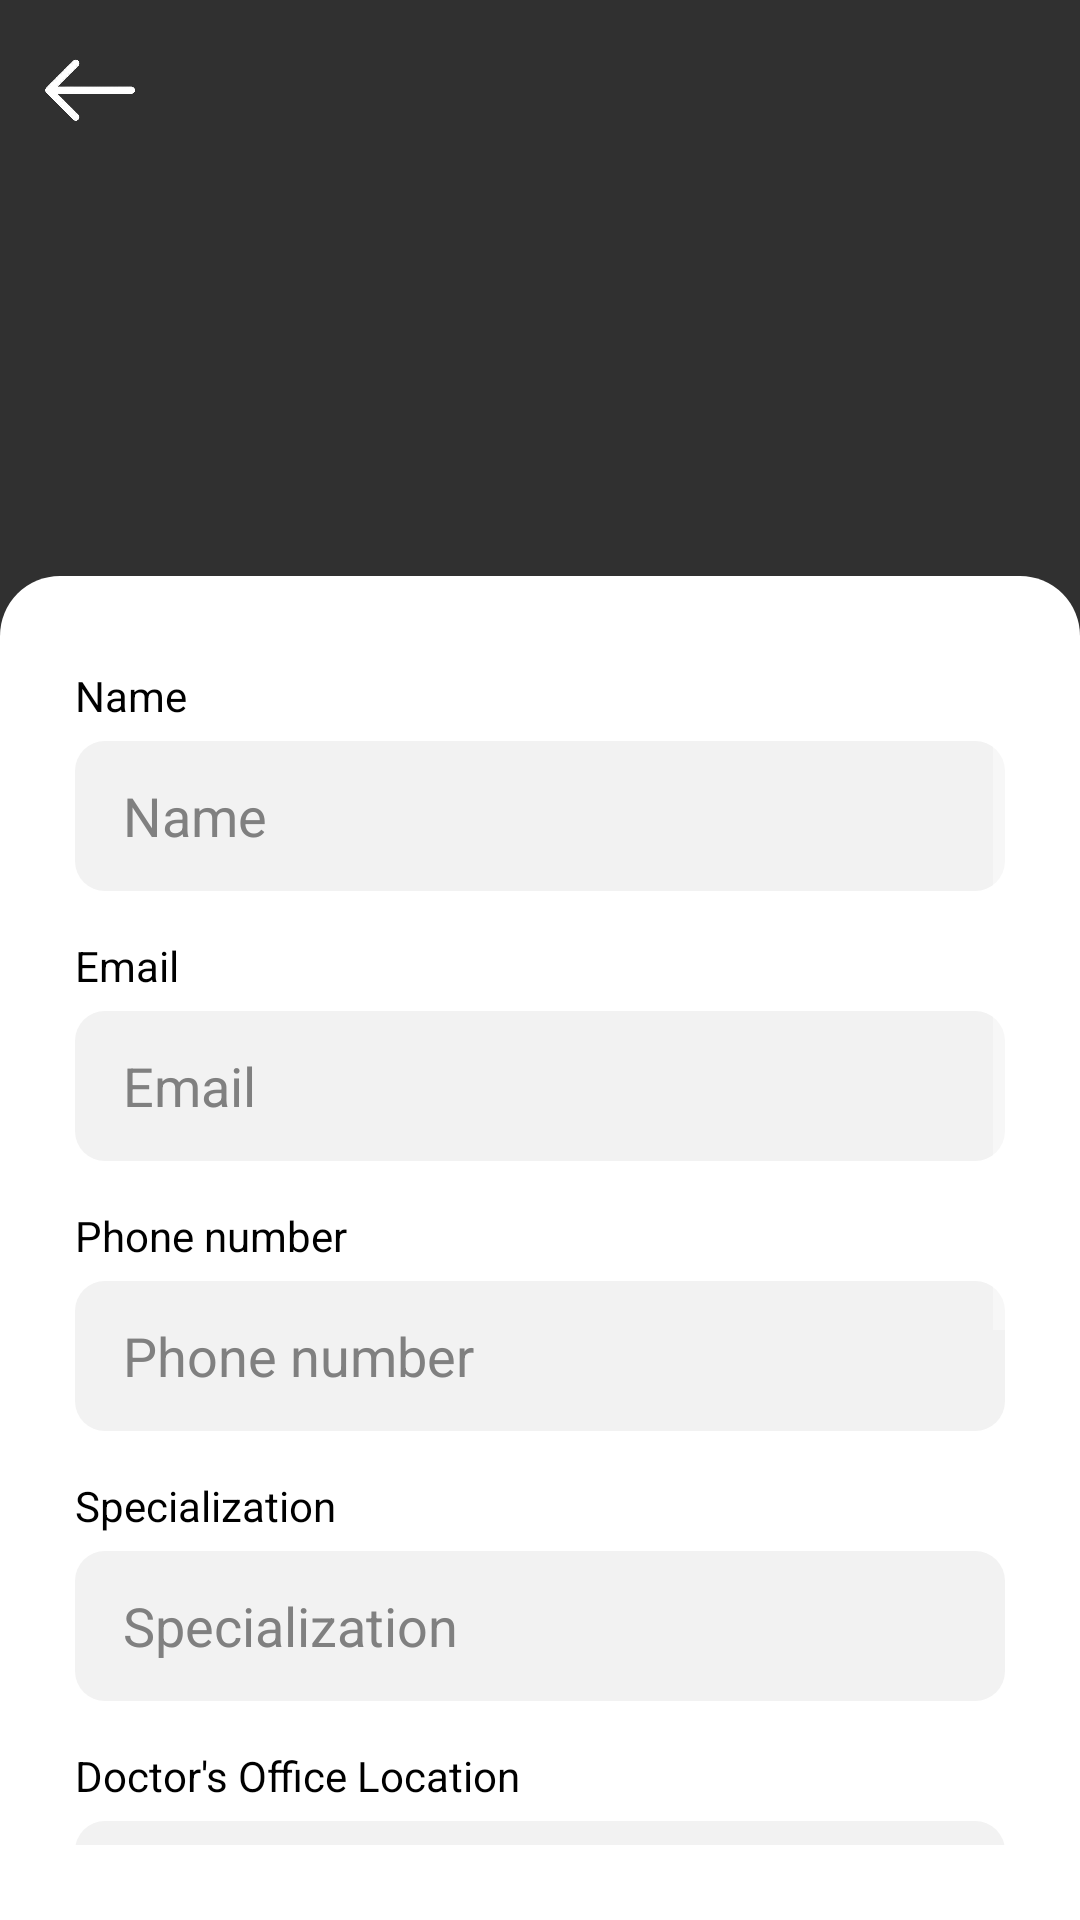

Named icons in this screenshot (1080w x 1920h) and their bounding boxes, (x1, y1, x2, y2):
back: (45, 59, 135, 121)
